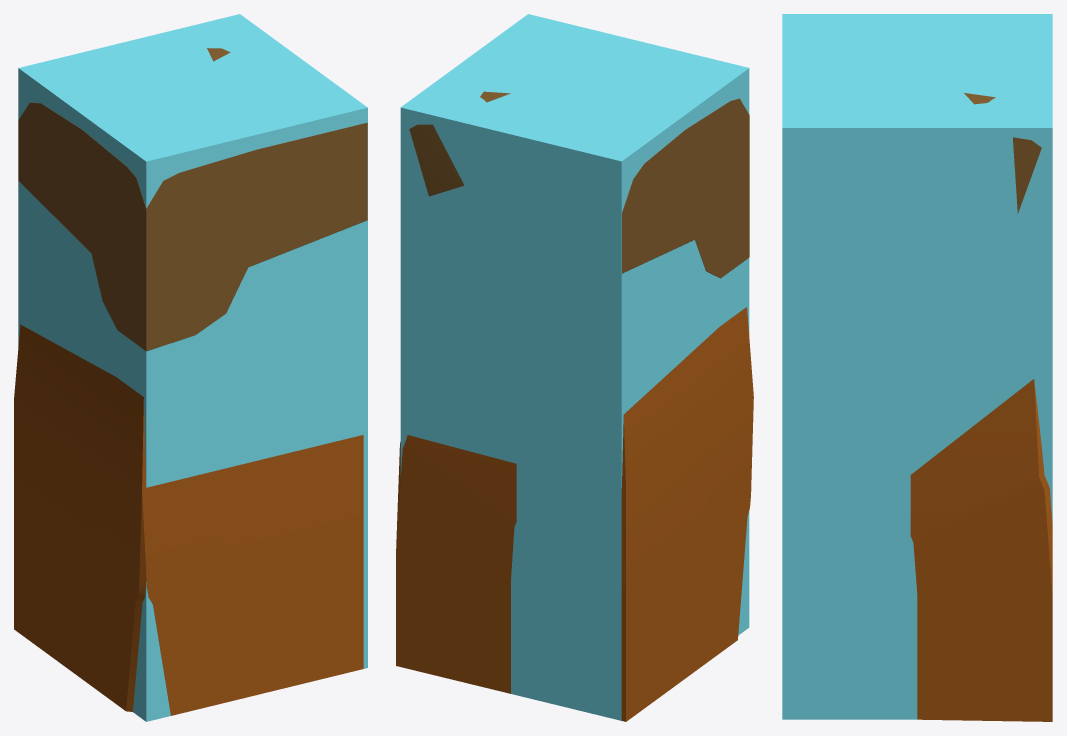
The model's file is PBOX1_Mud_01.FBX.
The picture shows the model from 3 angles, left to right: view 1: azimuth 30°, elevation 25°; view 2: azimuth 150°, elevation 25°; view 3: azimuth 270°, elevation 25°; orthographic projection. The views are drawn at different scales.
Visible parts, largest first — view 1: PBOX1_Mud_01, PBOX1_SUB_TAB_MUD_003, PBOX1_SUB_Mud_01; view 2: PBOX1_Mud_01, PBOX1_SUB_TAB_MUD_003, PBOX1_SUB_Mud_01; view 3: PBOX1_Mud_01, PBOX1_SUB_TAB_MUD_003, PBOX1_SUB_Mud_01.
Boxes of the visible parts, x1,y1,x2,y2 form: PBOX1_Mud_01: (18, 14, 367, 721); PBOX1_SUB_TAB_MUD_003: (14, 324, 363, 715); PBOX1_SUB_Mud_01: (18, 48, 367, 351); PBOX1_Mud_01: (400, 14, 749, 720); PBOX1_SUB_TAB_MUD_003: (396, 307, 753, 721); PBOX1_SUB_Mud_01: (409, 91, 749, 278); PBOX1_Mud_01: (782, 14, 1052, 719); PBOX1_SUB_TAB_MUD_003: (910, 379, 1052, 721); PBOX1_SUB_Mud_01: (964, 93, 1041, 213).
Bounding box in the file's own units: 6.24 × 14.52 × 6.01.
